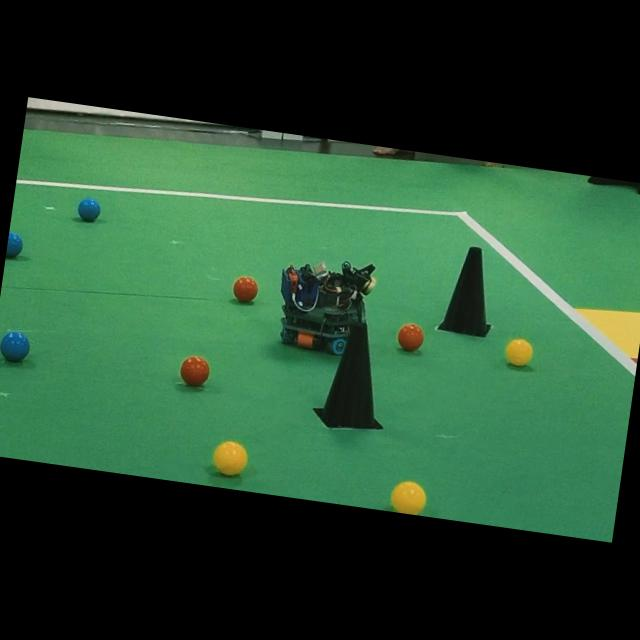ball: (391, 482, 426, 515), (213, 442, 247, 475), (180, 355, 210, 386), (0, 331, 30, 361), (397, 324, 424, 351), (505, 340, 532, 366), (233, 276, 258, 302), (78, 198, 101, 222), (6, 232, 23, 257)
goal: (576, 308, 640, 358)
